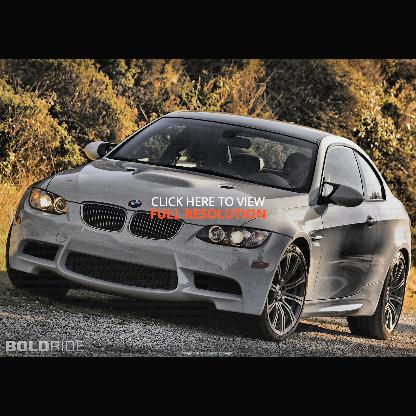BMW M3 Coupe 2012: (6, 111, 412, 342)
